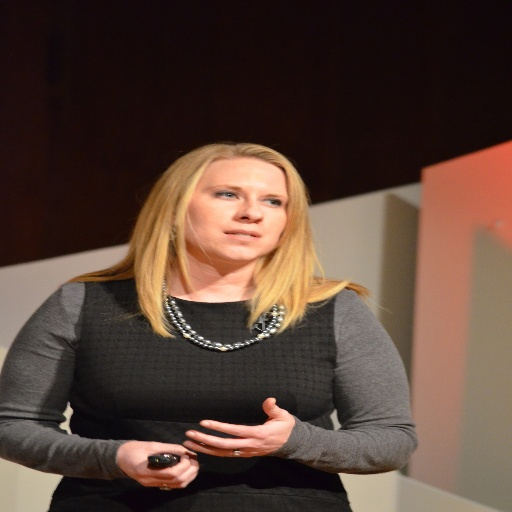hand: (185, 407, 306, 468), (115, 439, 200, 493)
